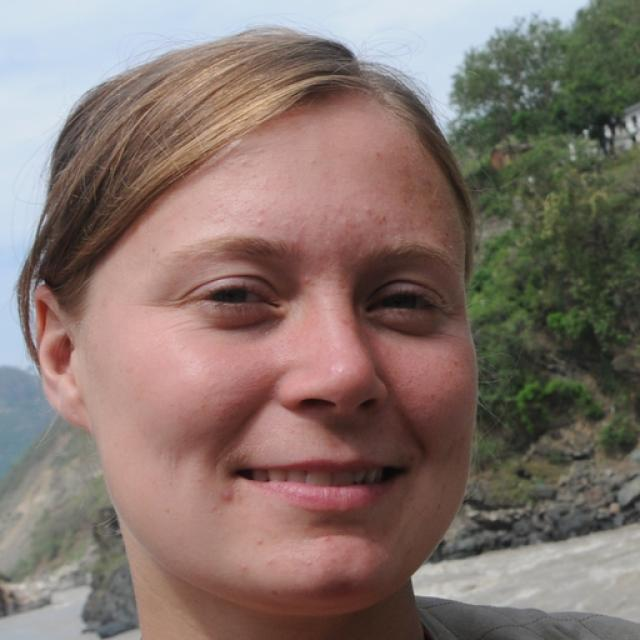Acne: (239, 204, 277, 241), (206, 486, 238, 512), (308, 524, 335, 553), (357, 193, 380, 227), (286, 227, 305, 258), (297, 263, 319, 287), (247, 531, 272, 552), (263, 548, 279, 575)
